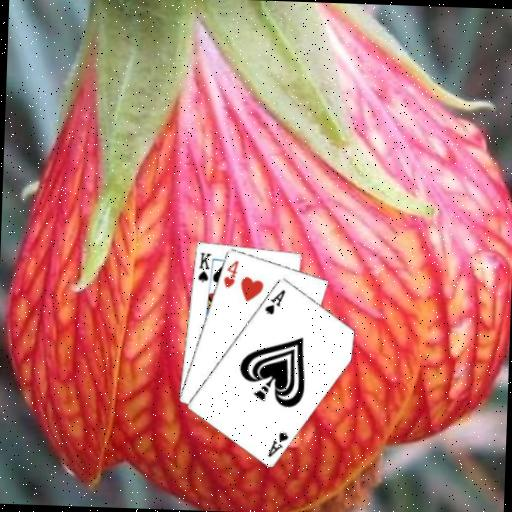4H: (220, 257, 240, 290)
AS: (264, 428, 290, 459), (261, 285, 286, 316)
KS: (194, 248, 212, 284)
